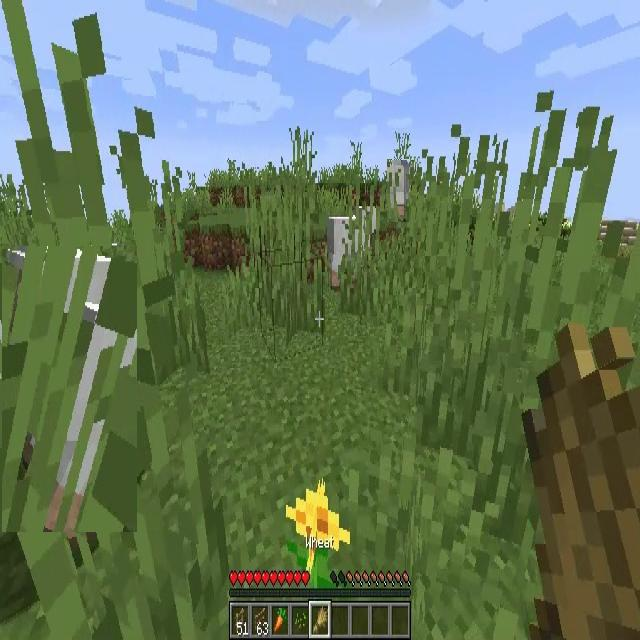flower: (286, 484, 351, 586)
sheep: (2, 246, 137, 532), (329, 208, 378, 289), (387, 159, 409, 222)
